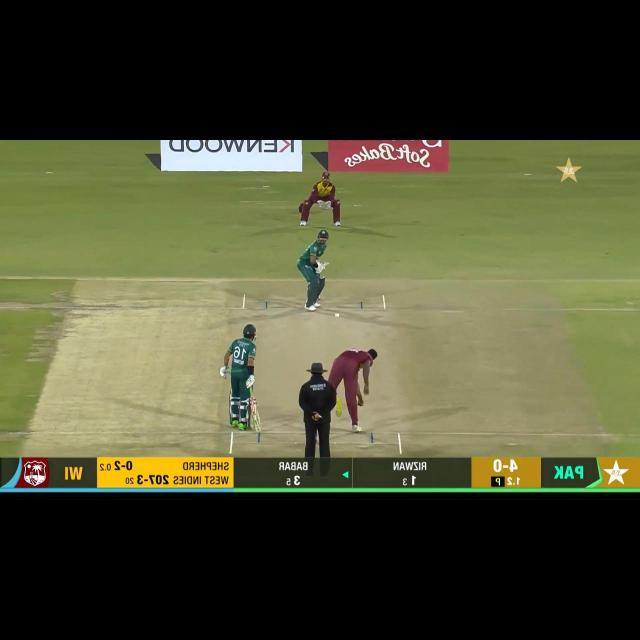bat: (250, 400, 263, 432), (322, 259, 332, 267)
toe: (254, 425, 263, 432), (325, 258, 332, 266)
